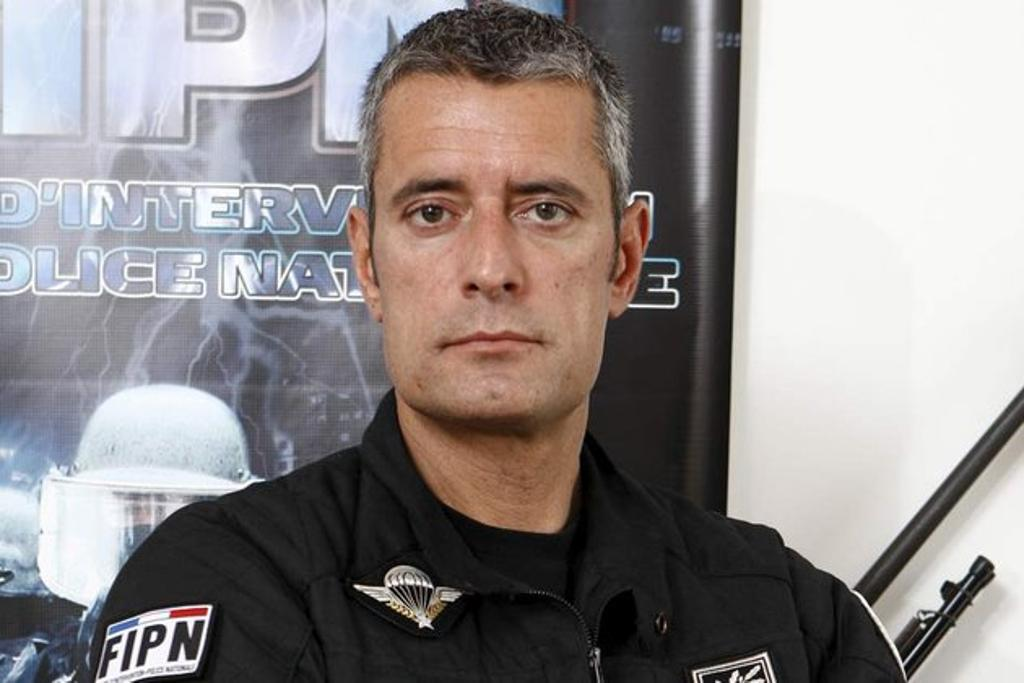face: (377, 91, 605, 409)
